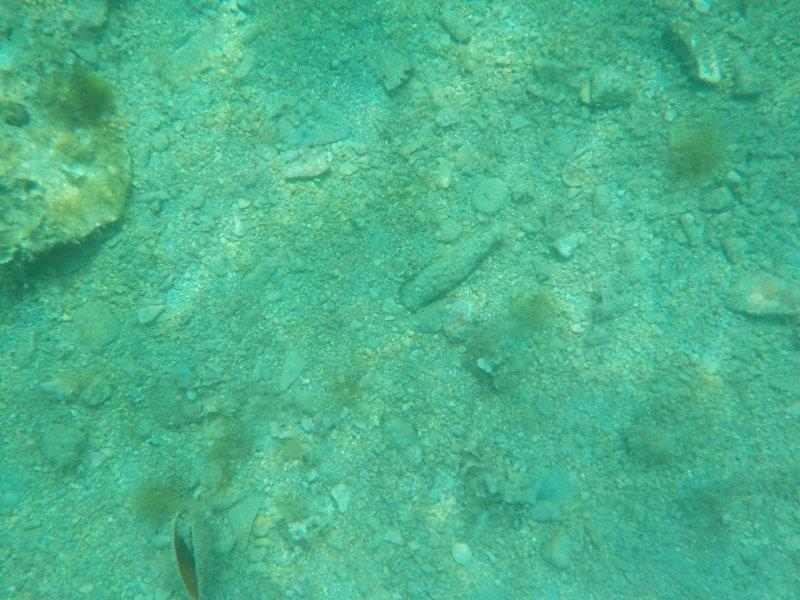bottle: (391, 216, 514, 316)
